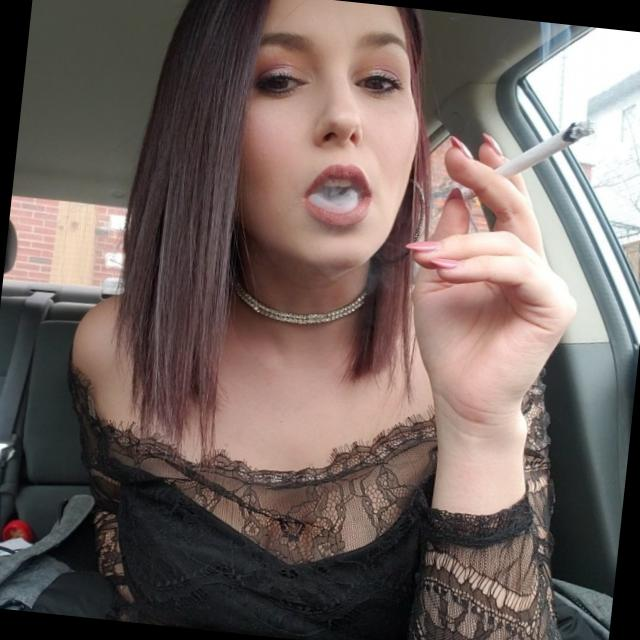cigarette: (455, 106, 600, 220)
